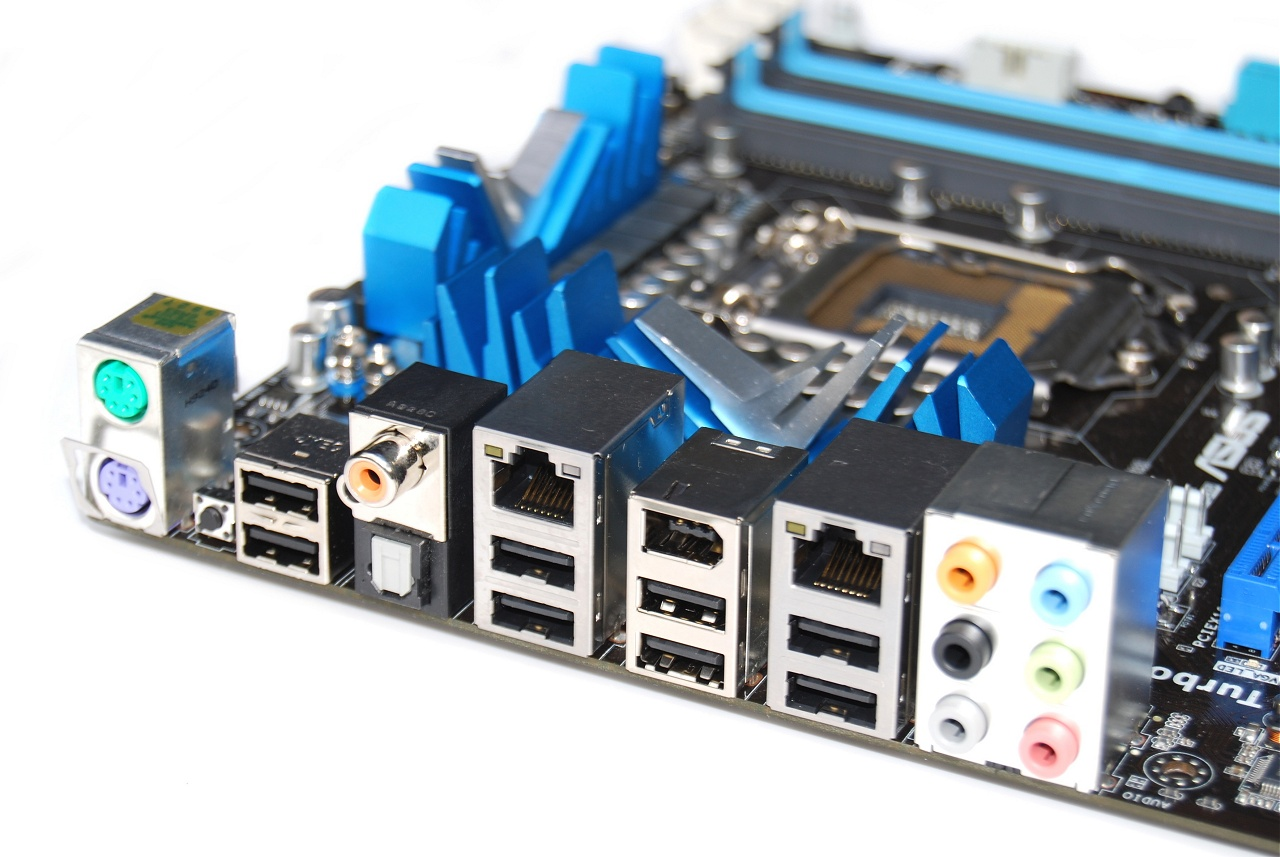Audio: (927, 622, 993, 680), (936, 539, 998, 598), (1028, 571, 1088, 629), (1022, 647, 1084, 701)
Ethernet: (779, 505, 904, 615), (471, 428, 593, 532)
USB: (475, 582, 590, 656), (773, 668, 889, 736), (629, 570, 737, 641)
